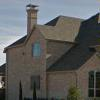Chimney: (18, 2, 41, 35)
